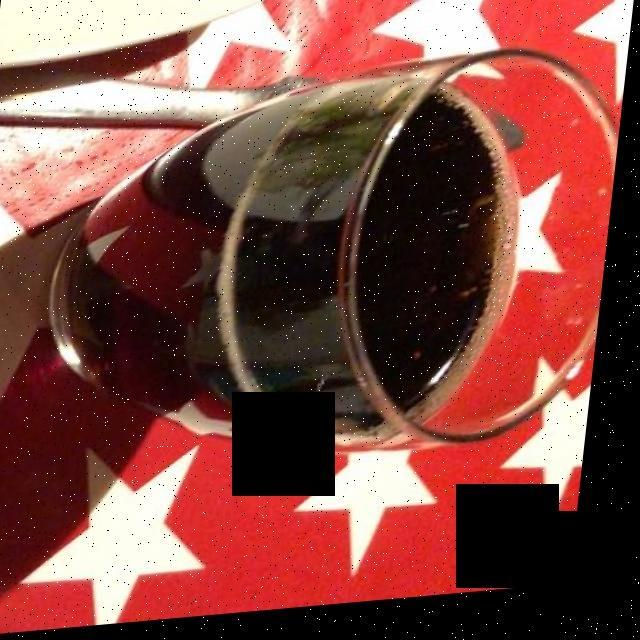coca-cola: (365, 101, 506, 419)
drink: (54, 82, 513, 467)
